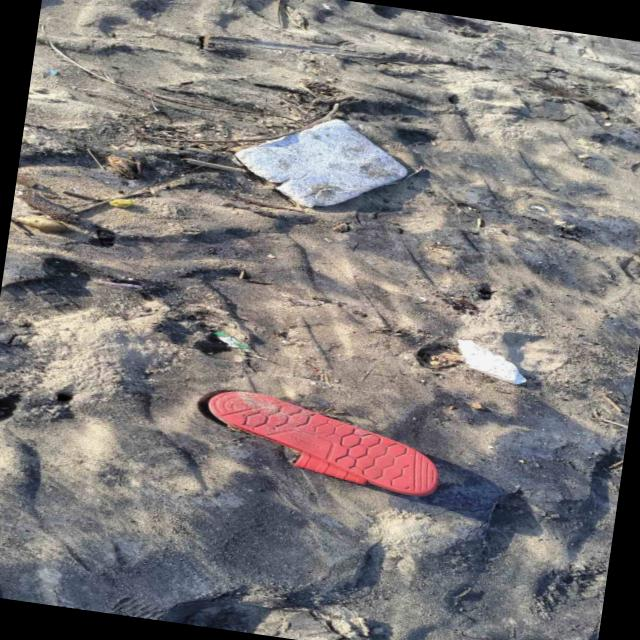dep: (207, 392, 437, 497)
rac_huu_co: (45, 42, 295, 121), (14, 182, 167, 247), (134, 99, 342, 144), (104, 148, 142, 179), (181, 158, 247, 173), (248, 39, 306, 49), (71, 200, 106, 212), (121, 185, 151, 197)
xop: (234, 118, 408, 207)
